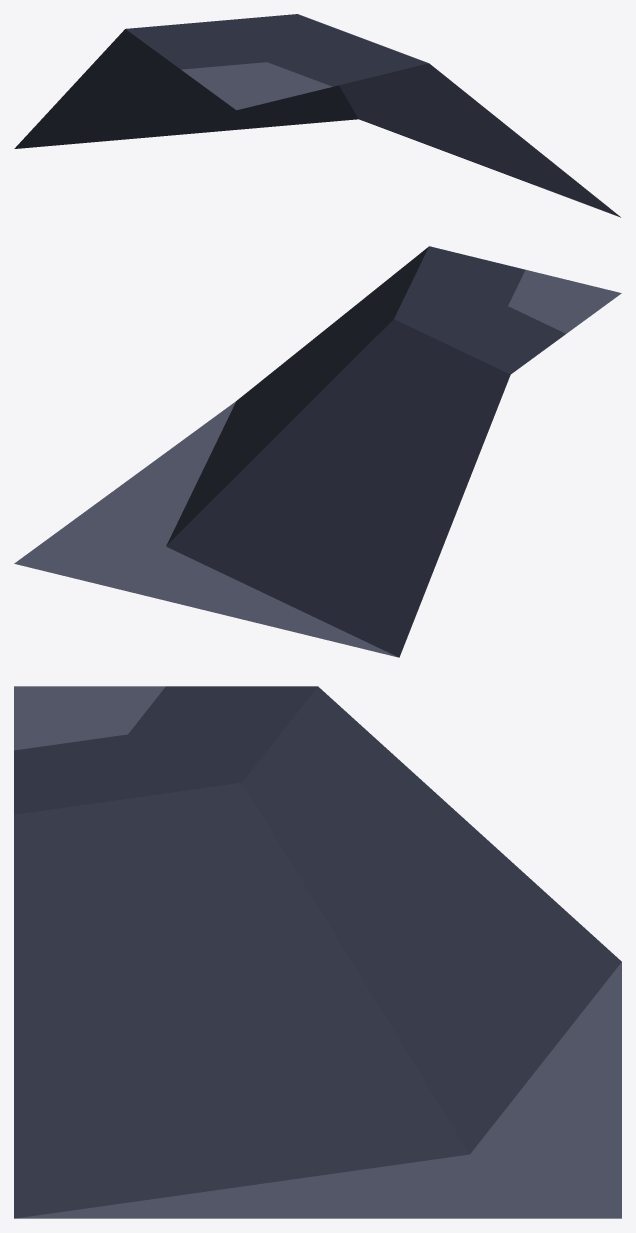
File: terrain_sideCorner.glb
3 renders of one model, top to bottom at view 1: azimuth 30°, elevation 25°; view 2: azimuth 150°, elevation 25°; view 3: azimuth 270°, elevation 25°, orthographic. The views are drawn at different scales.
Visible parts, largest first — view 1: terrain_sideCorner; view 2: terrain_sideCorner; view 3: terrain_sideCorner.
Boxes of the visible parts, x1,y1,x2,y2 form: terrain_sideCorner: [14, 14, 620, 217]; terrain_sideCorner: [14, 246, 621, 657]; terrain_sideCorner: [14, 686, 621, 1218].
Size of the model in its own units: 1 by 0.5 by 1.
